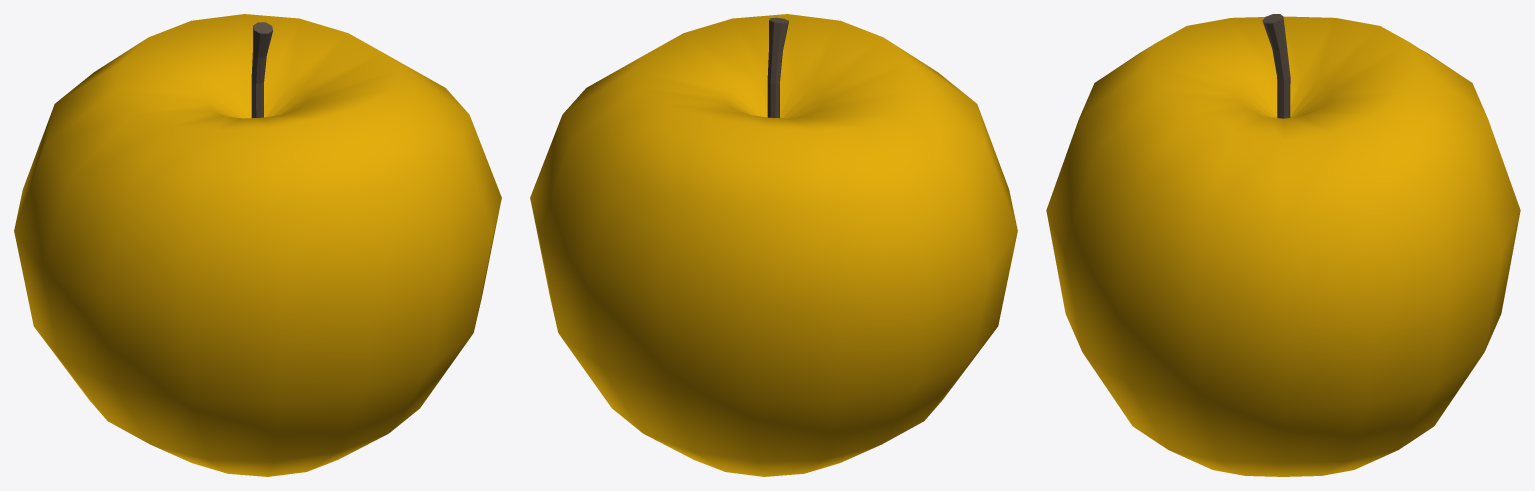
File: Apple2star.fbx
3 views of the same model, side by side, from view 1: azimuth 30°, elevation 25°; view 2: azimuth 150°, elevation 25°; view 3: azimuth 270°, elevation 25° (orthographic). The views are drawn at different scales.
Parts seen in each view (by area): view 1: Apple; view 2: Apple; view 3: Apple.
Part boxes in pixels (left/top/right/bottom): Apple: left=14, top=14, right=501, bottom=476; Apple: left=530, top=14, right=1017, bottom=476; Apple: left=1046, top=14, right=1520, bottom=476.
Bounding box in the file's own units: 223 × 204 × 207.
